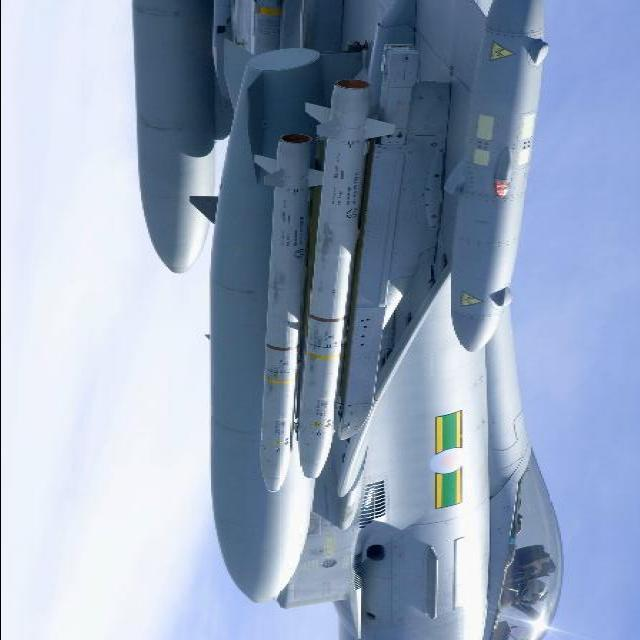missile: (303, 73, 387, 478), (255, 127, 310, 489)
